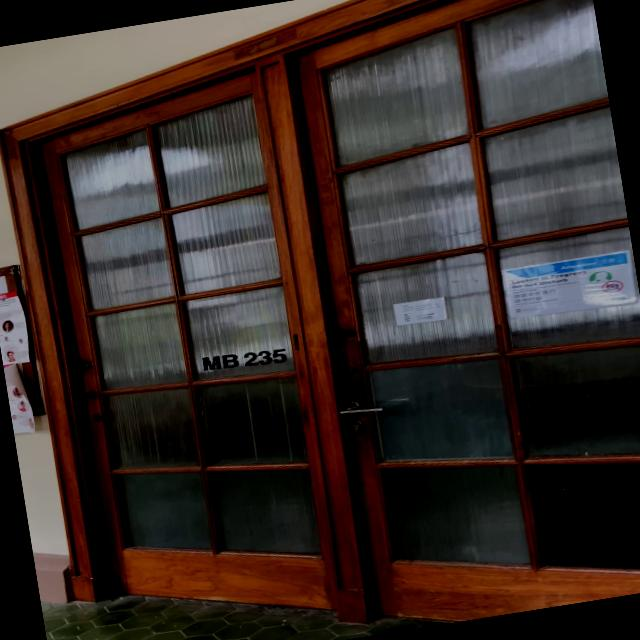room235Window: (200, 342, 290, 378)
